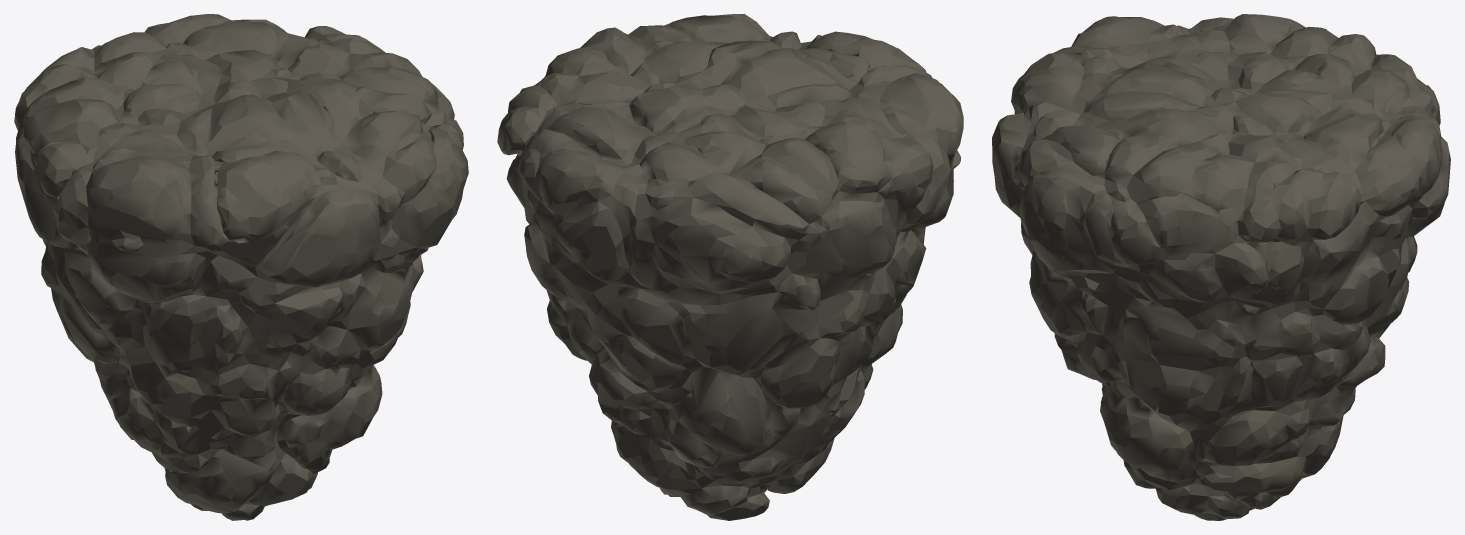
File: FormacionesRocosas.fbx
3 renders of one model, left to right at view 1: azimuth 30°, elevation 25°; view 2: azimuth 150°, elevation 25°; view 3: azimuth 270°, elevation 25°, orthographic.
Parts seen in each view (by area): view 1: Cube.001; view 2: Cube.001; view 3: Cube.001.
Part boxes in pixels (x1,y1,x2,y2): Cube.001: [14, 14, 468, 520]; Cube.001: [497, 14, 963, 520]; Cube.001: [992, 14, 1450, 520].
Bounding box in the file's own units: 1402 × 1502 × 1423.
